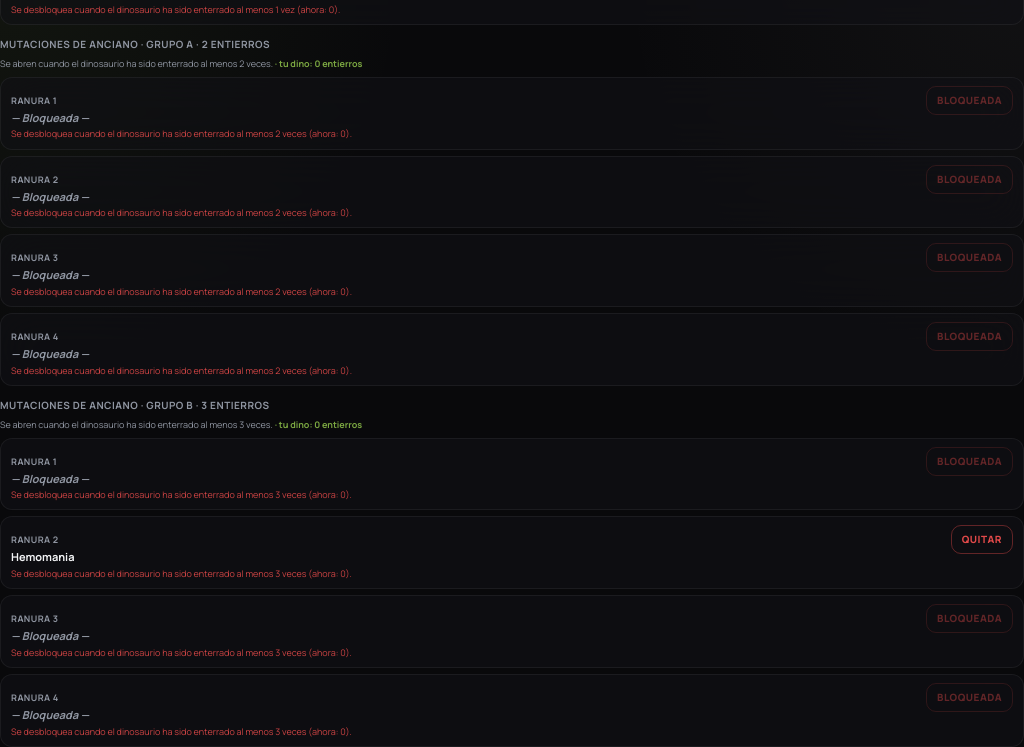
Test case: nothing is ever trapped in a closed inherited slot › the second control really does empty it, free
This screenshot has width=1024, height=747.
Later steps or results of the test are not shown.
(page scrolled)
Click the button "Quitar": (982, 540) [951,525,1013,554]
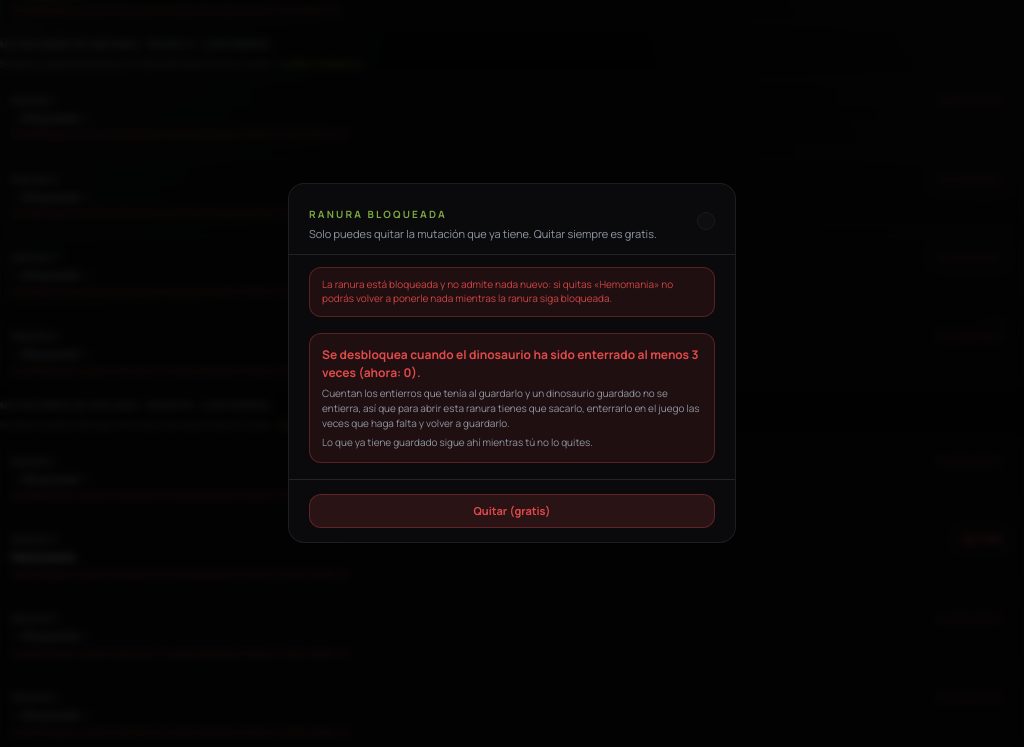
Click the button with test id "mutation-picker-clear": (512, 511) [309,494,715,528]
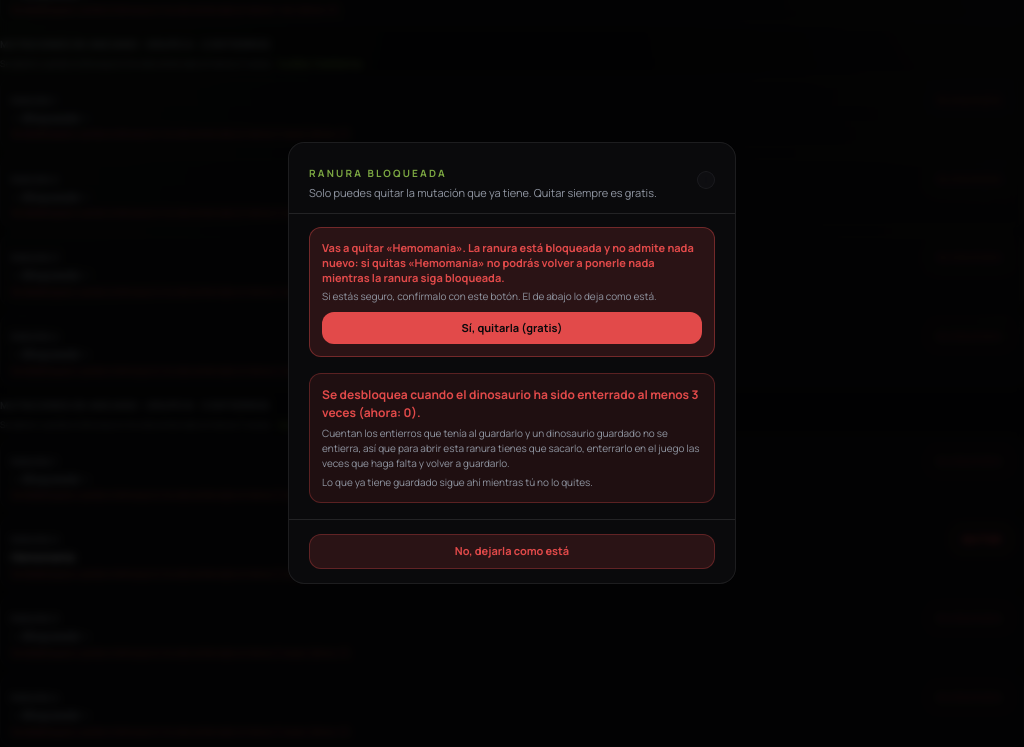
Now the button with test id "mutation-clear-confirm" shows "(gratis)", box [322,312,702,344]
